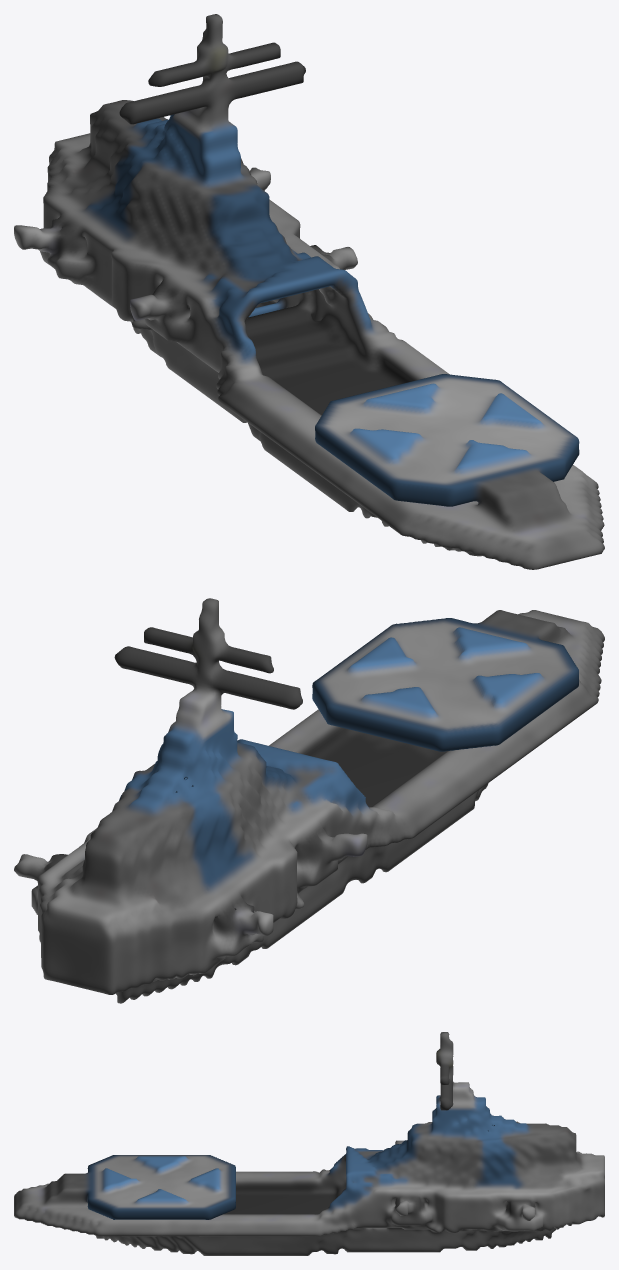
Rendered from aircraft_carrier.glb.
The picture shows the model from 3 angles, top to bottom: view 1: azimuth 30°, elevation 25°; view 2: azimuth 150°, elevation 25°; view 3: azimuth 270°, elevation 25°; orthographic projection. The views are drawn at different scales.
Parts seen in each view (by area): view 1: aircraft_carrier; view 2: aircraft_carrier; view 3: aircraft_carrier.
Boxes of the visible parts, x1=… form: aircraft_carrier: x1=14, y1=14, x2=604, y2=569; aircraft_carrier: x1=14, y1=598, x2=604, y2=1003; aircraft_carrier: x1=14, y1=1032, x2=604, y2=1255.
Bounding box in the file's own units: 3.54 × 4.58 × 11.97.
